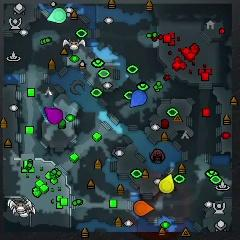p1: (130, 90, 147, 107)
p2: (48, 8, 67, 23)
p3: (44, 107, 63, 124)
p4: (159, 174, 175, 193)
p5: (134, 200, 154, 216)
